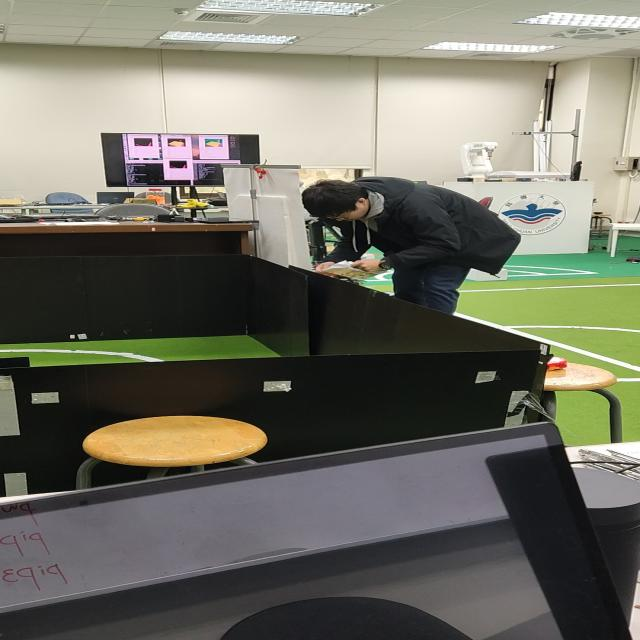person: (292, 162, 534, 319)
